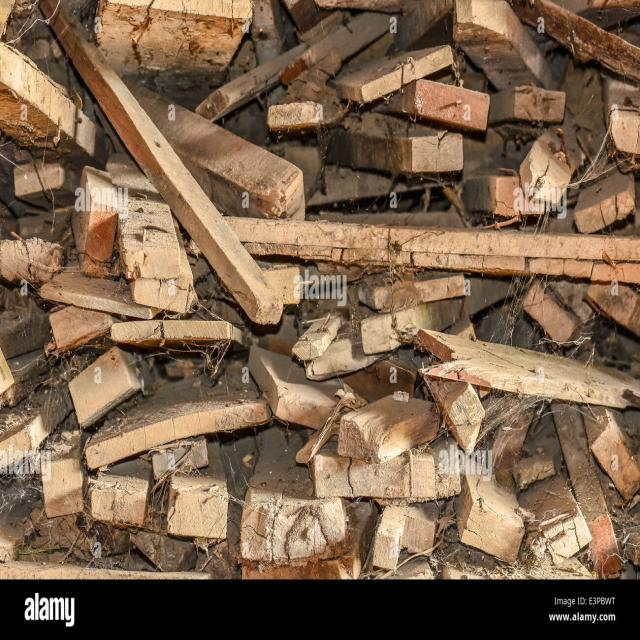green waste: (0, 0, 638, 565)
